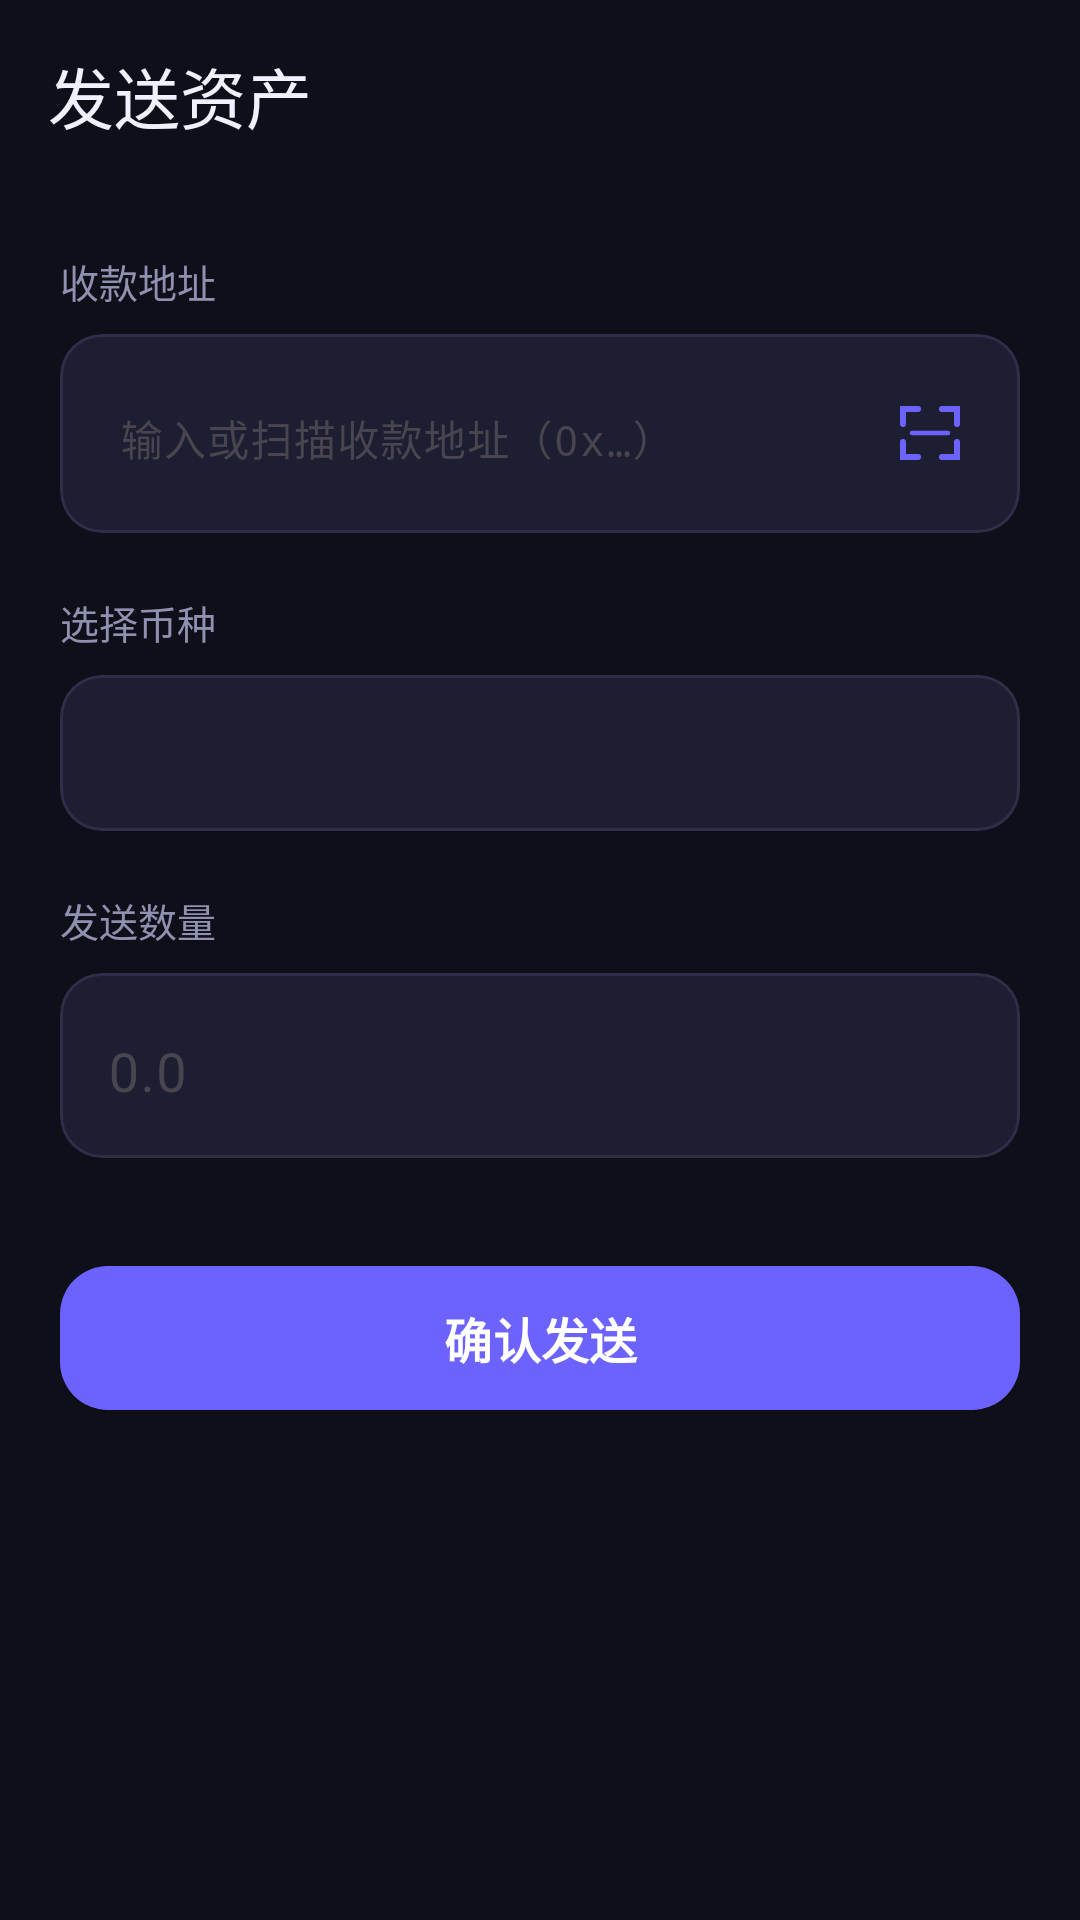

Icon click points for this 1080 x 1920 phone screenshot, format (x=x, y=y):
扫描二维码: (x=930, y=433)
